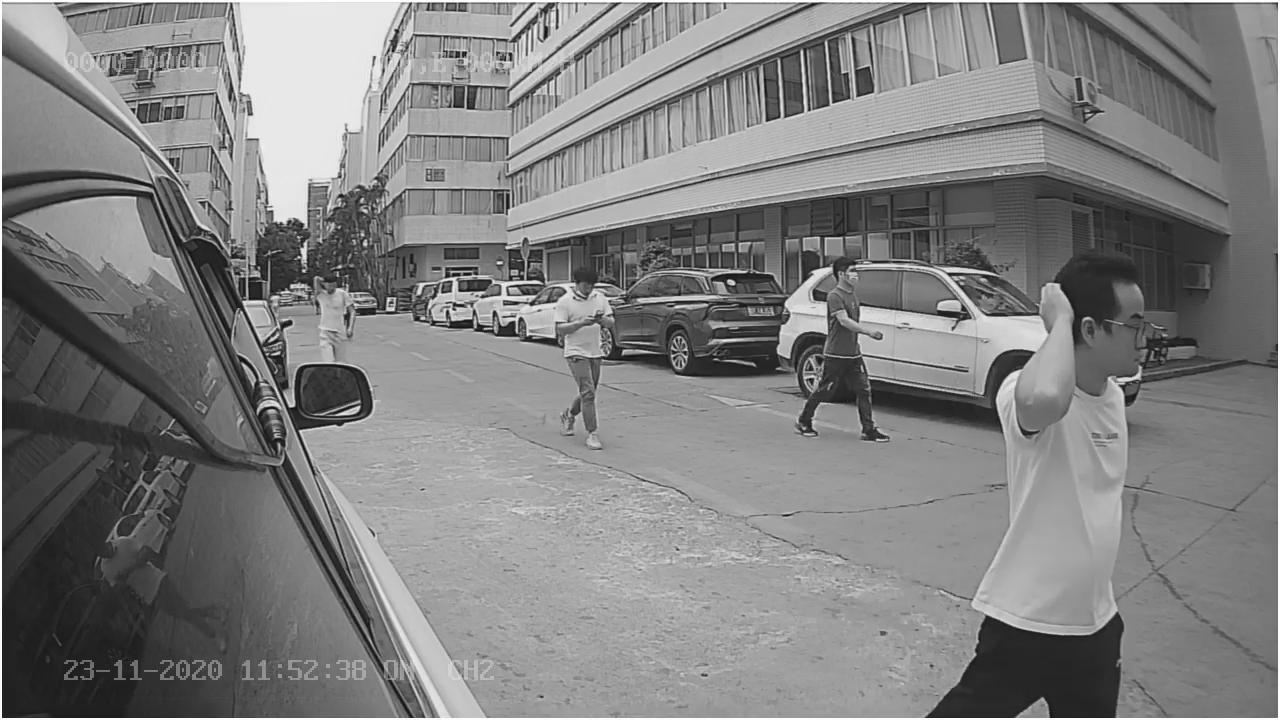person: (797, 252, 885, 437), (553, 267, 612, 449)
